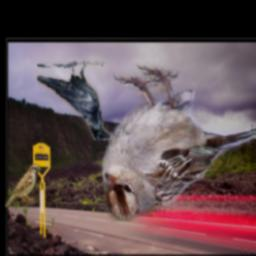Crow: (36, 62, 111, 141)
Sparrow: (98, 61, 256, 221), (4, 164, 40, 207)
